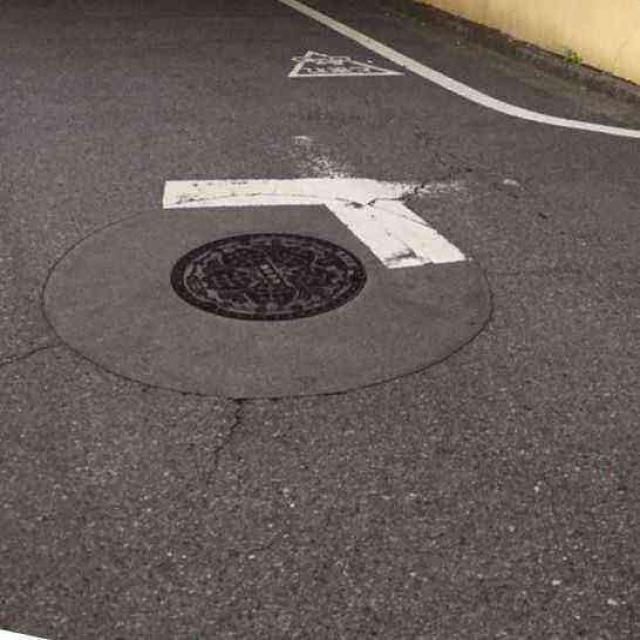manhole: (172, 232, 365, 318)
